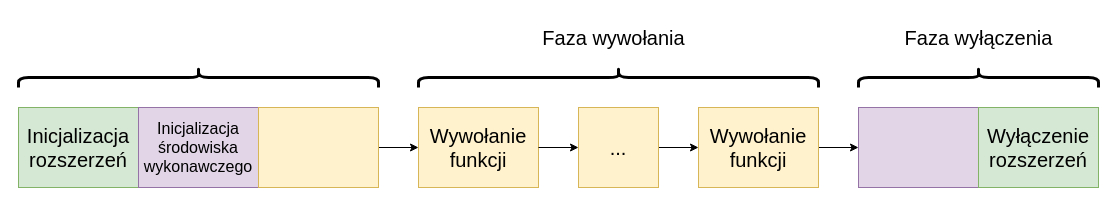
Image size: 1117x205. Some labels were removed from this diagram. Here are the shapes that lost their labels. From the top down, the centre of each, then its label:
At (x=198, y=77): "Faza inicjalizacji".
At (x=318, y=147): "Inicjalizacja funkcji".
At (x=918, y=147): "Wyłączenie środowiska wykonawczego".
